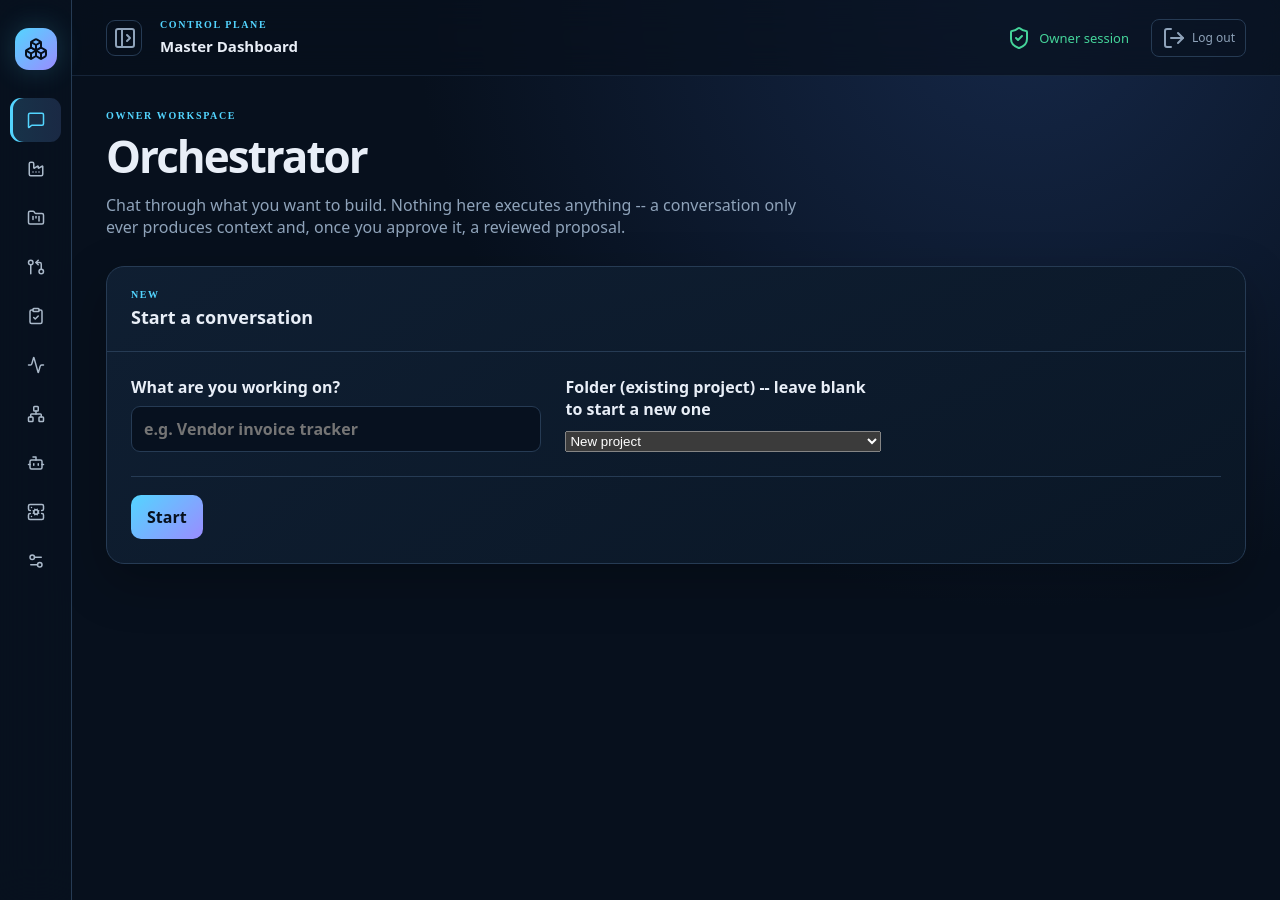
Test: dashboard › starts a conversation through the authenticated CSRF command boundary
The width and height of the screenshot is (1280, 900).
Click the link named "Chat".
click(36, 120)  # box [10,98,61,142]
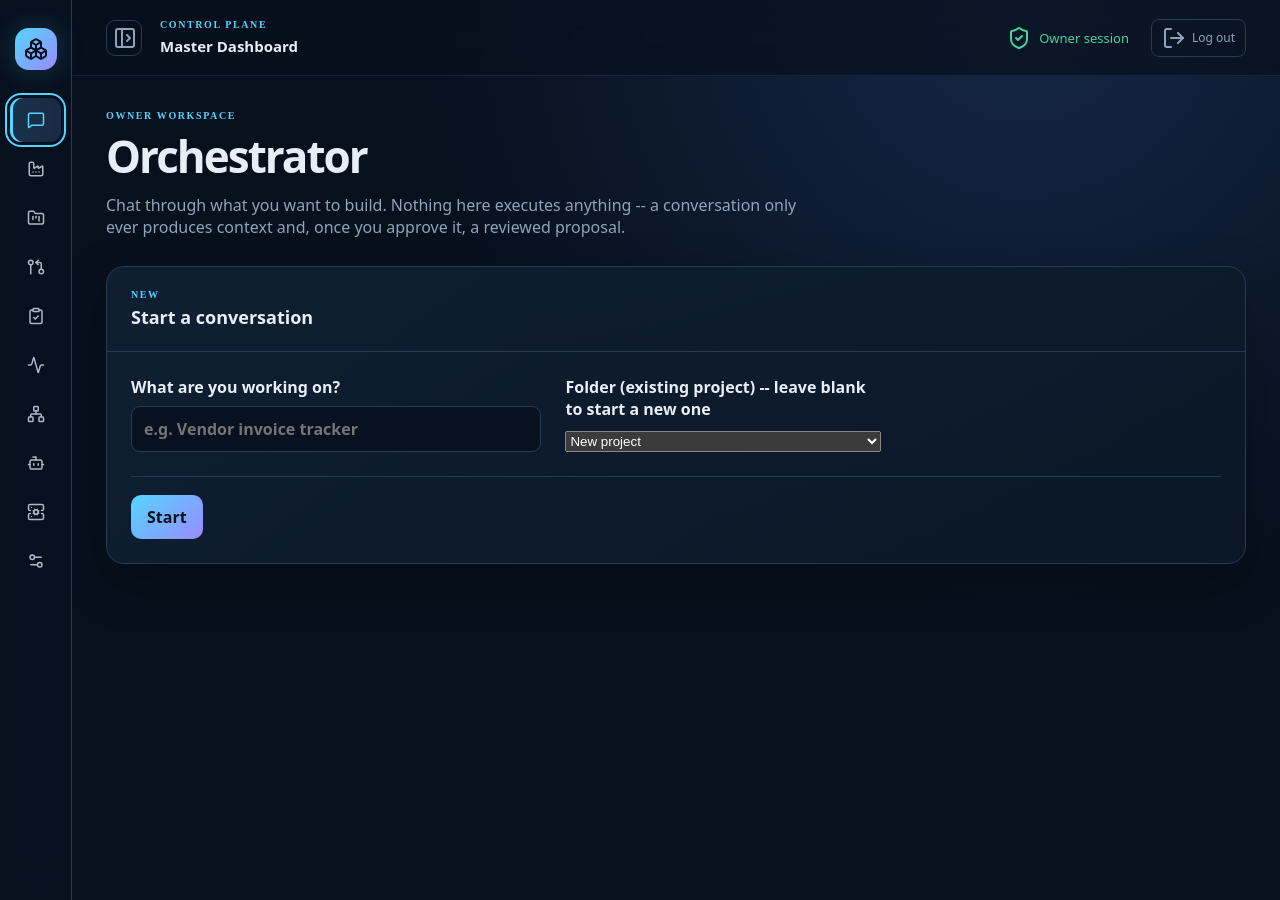
Type "Vendor invoice tracker" into the field named "Conversation title".
click(336, 429); type("Vendor invoice tracker")  # box [131,406,542,452]
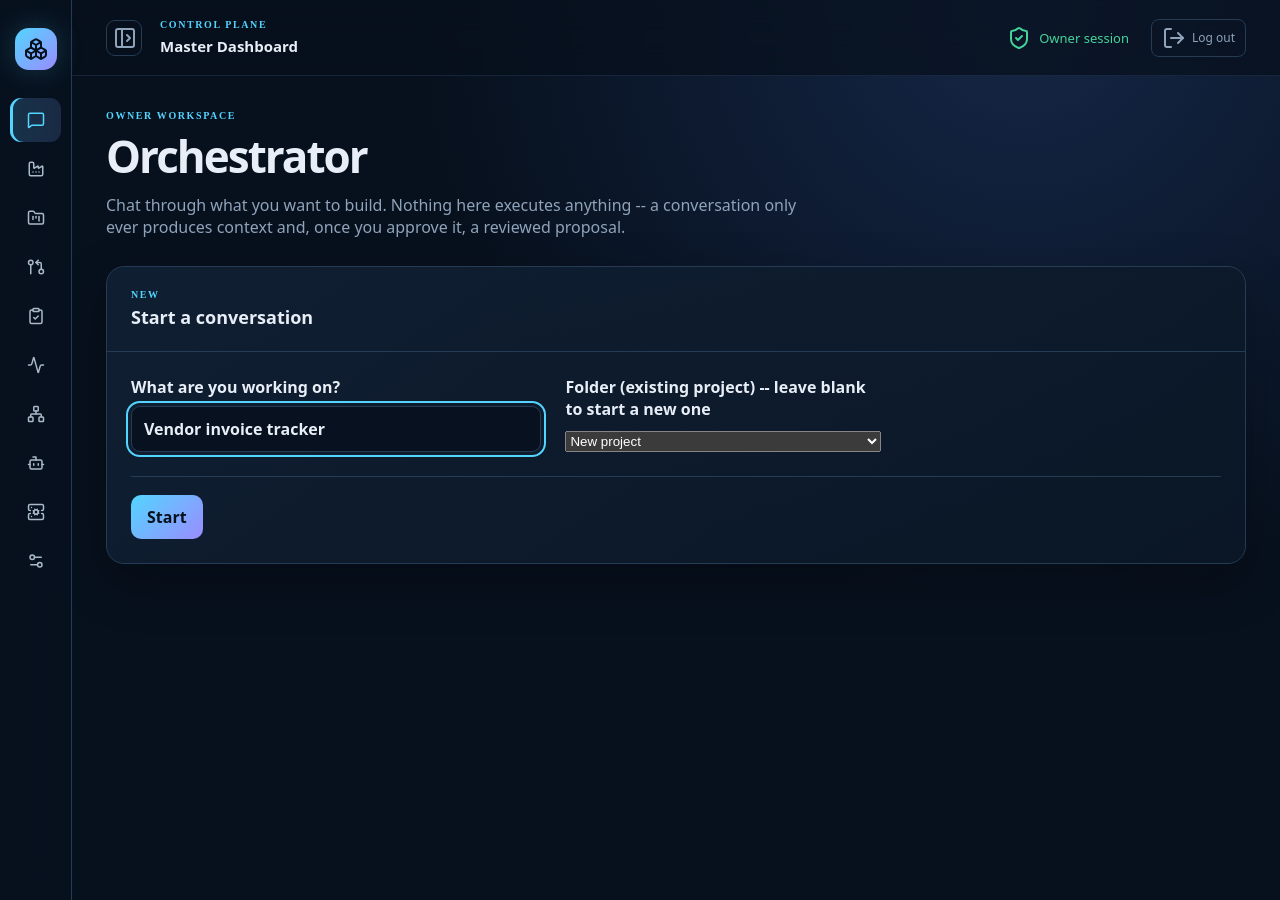
Click the button "Start".
click(167, 517)  # box [131,495,203,539]
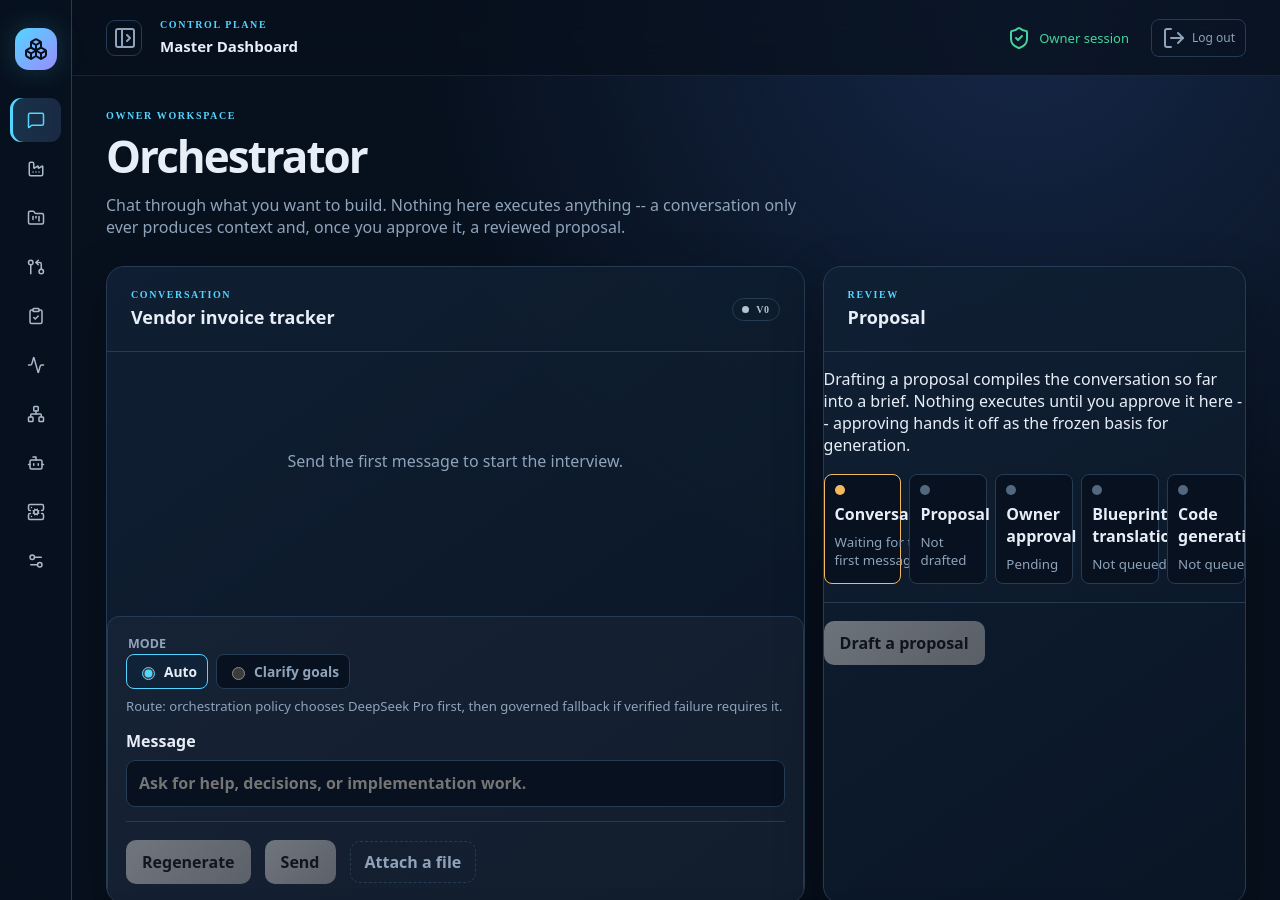
Check: the text box labelled "Message" is shown, box [126,760,785,807]
